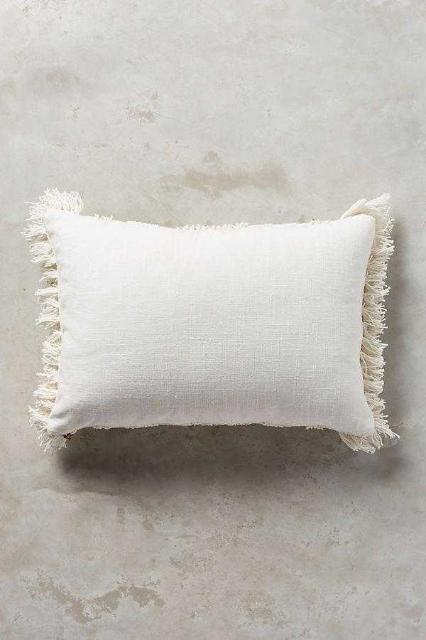pillow: (25, 190, 396, 452)
